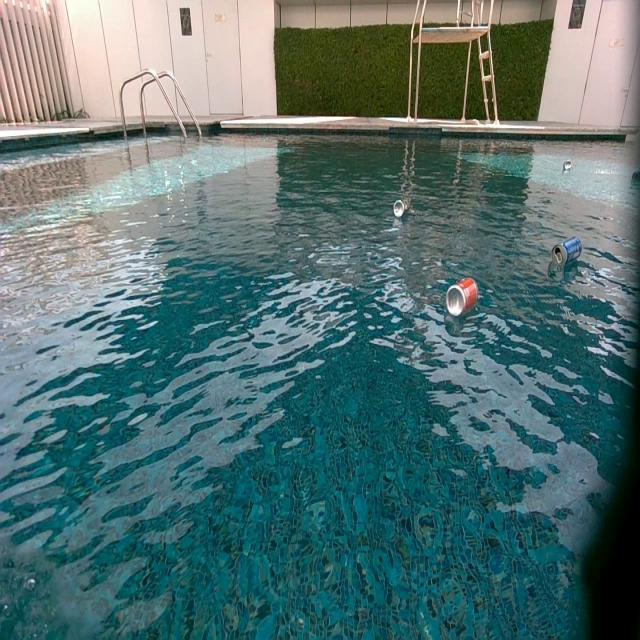Cans: (446, 276, 478, 318), (551, 236, 584, 267), (392, 200, 405, 218), (632, 170, 640, 184), (563, 161, 572, 173)
